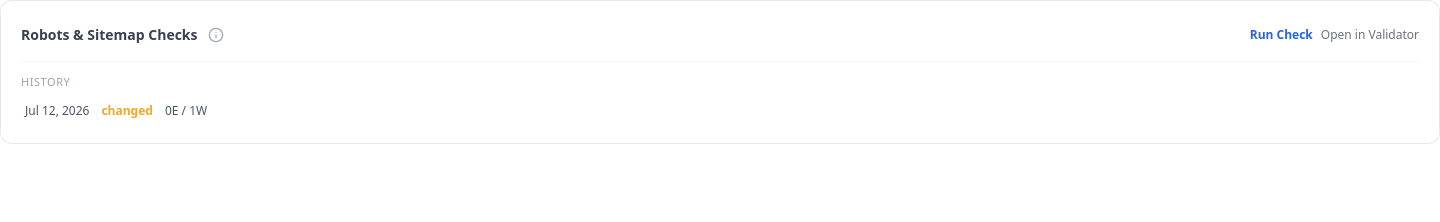
changed-vs-previous section (D5) › null diff with changed content renders line-diff-unavailable, never formatting-only (plan-Codex #3)
Click the button "Jul 12, 2026 changed 0E / 1W".
click(57, 110)  # box [21,98,1419,122]
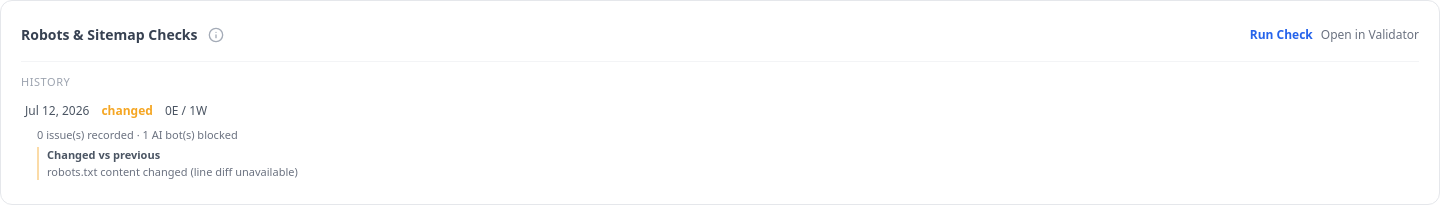
Expected: the text "robots.txt content changed (line diff unavailable)" is shown, [47,164,298,178]
